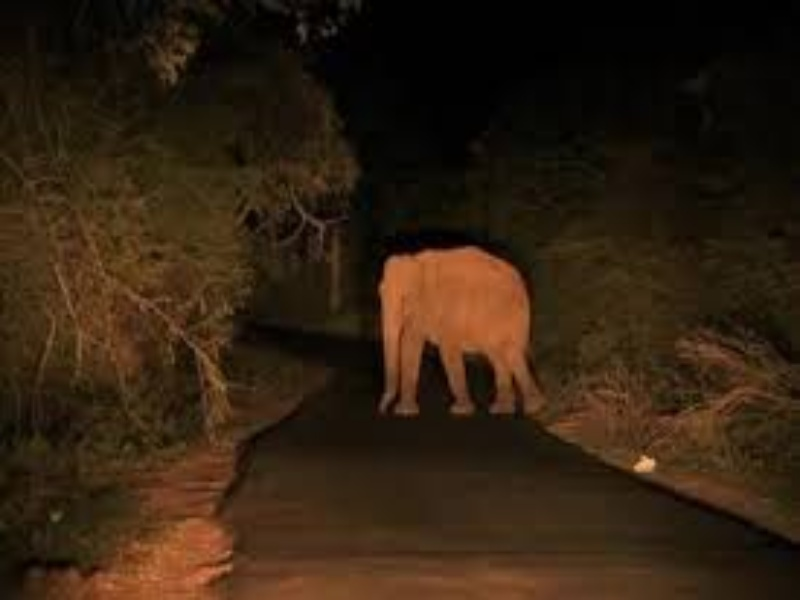elephant: (368, 226, 564, 432)
